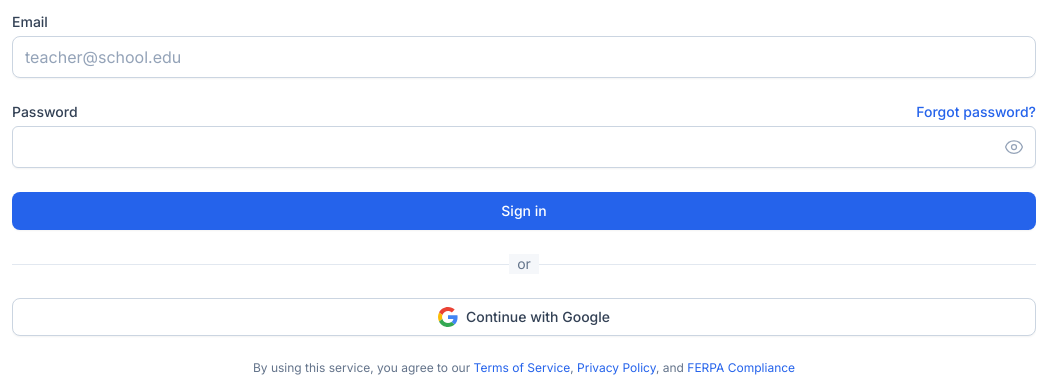
Test: LoginForm › disables form during submission
The width and height of the screenshot is (1048, 392).
Fill in form
Type "test@example.com" into the field labelled "Email" at (524, 57), box [12,36,1036,78]
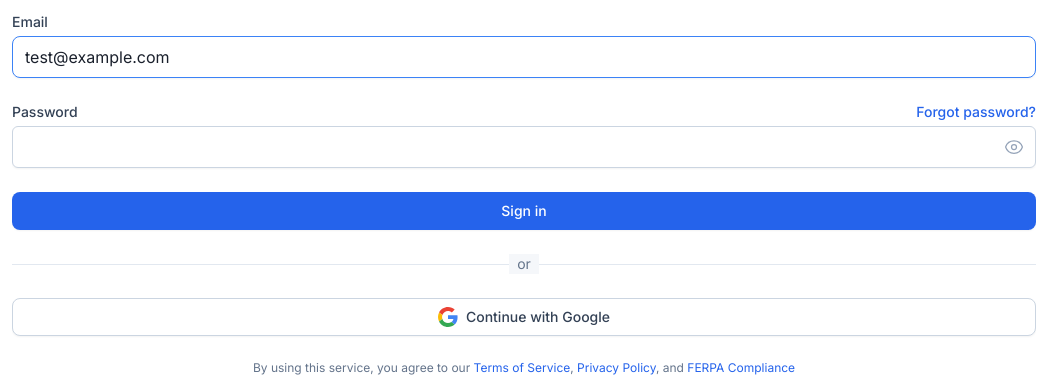
Type "password123" into the password field labelled "Password" at (524, 147), box [12,126,1036,168]
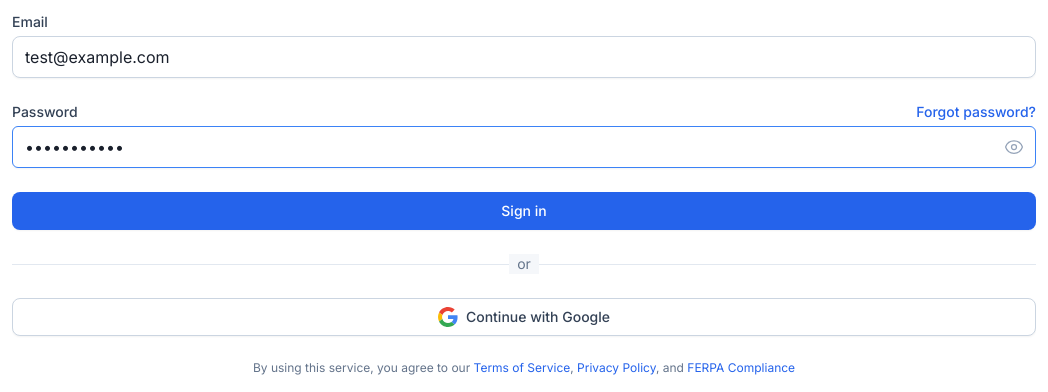
Submit form
Click the button "Sign in" at (524, 211), box [12,192,1036,230]
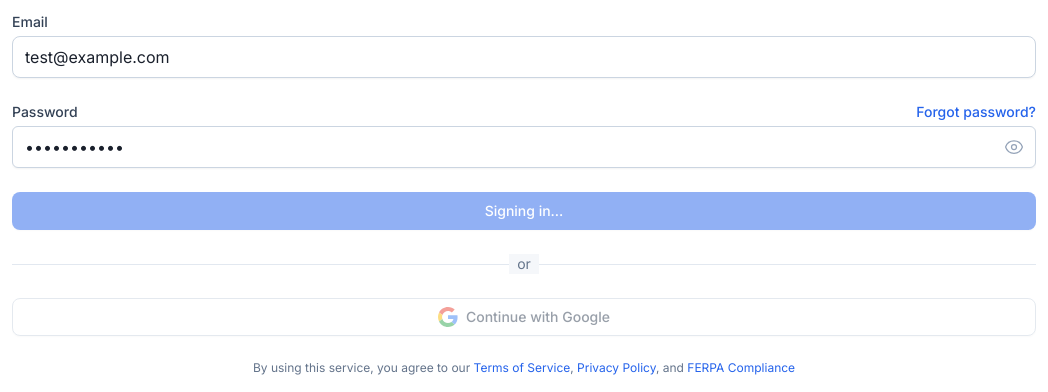
Expected: the button named "sign in" is disabled, [12,192,1036,230]
